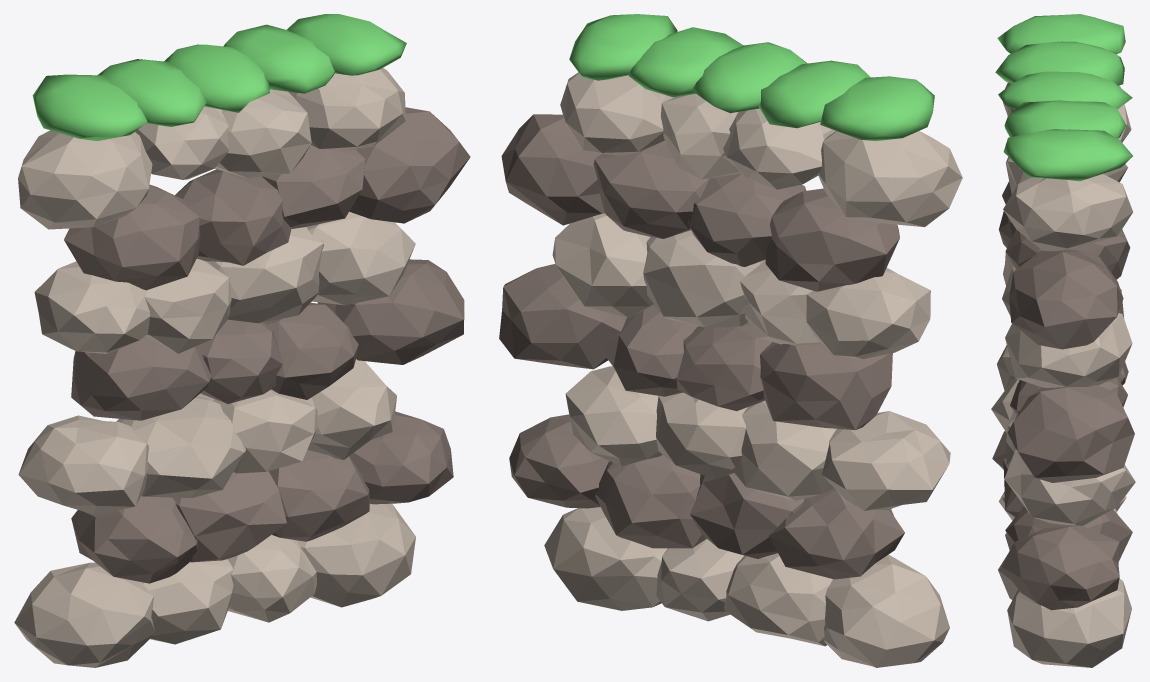
The model's file is CliffWall.fbx.
3 renders of one model, left to right at view 1: azimuth 30°, elevation 25°; view 2: azimuth 150°, elevation 25°; view 3: azimuth 270°, elevation 25°, orthographic. The views are drawn at different scales.
Parts seen in each view (by area): view 1: Rock.003, RockDark.005, Leaves.001; view 2: Rock.003, RockDark.005, Leaves.001; view 3: RockDark.005, Rock.003, Leaves.001.
Boxes of the visible parts, x1,y1,x2,y2 form: Rock.003: (14, 68, 415, 667); RockDark.005: (64, 107, 470, 583); Leaves.001: (32, 14, 406, 140); Rock.003: (544, 72, 962, 667); RockDark.005: (499, 114, 904, 579); Leaves.001: (569, 14, 934, 141); RockDark.005: (992, 181, 1134, 610); Rock.003: (991, 82, 1135, 667); Leaves.001: (995, 14, 1132, 181).
Size of the model in its own units: 62.05 by 76.83 by 19.21.
